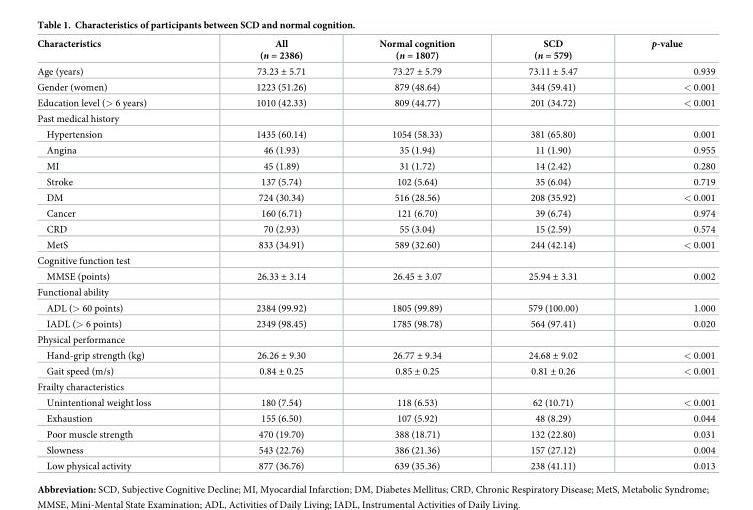table: (36, 36, 714, 470)
table column: (36, 36, 202, 470), (342, 36, 490, 470), (202, 36, 342, 470), (490, 36, 614, 470), (614, 36, 714, 470)
table column header: (36, 36, 714, 62)
table projected row header: (36, 110, 714, 126), (36, 252, 714, 267), (36, 284, 714, 299), (36, 331, 714, 346), (36, 379, 714, 394)
table row: (36, 36, 714, 62), (36, 62, 714, 79), (36, 267, 714, 284), (36, 362, 714, 379), (36, 94, 714, 110), (36, 110, 714, 126), (36, 126, 714, 142), (36, 157, 714, 173), (36, 173, 714, 189), (36, 189, 714, 205), (36, 205, 714, 221), (36, 236, 714, 252), (36, 299, 714, 315), (36, 315, 714, 331), (36, 346, 714, 362), (36, 394, 714, 410), (36, 410, 714, 426), (36, 426, 714, 442), (36, 79, 714, 94), (36, 142, 714, 157), (36, 221, 714, 236), (36, 252, 714, 267), (36, 284, 714, 299), (36, 331, 714, 346), (36, 379, 714, 394), (36, 442, 714, 457), (36, 457, 714, 470)
